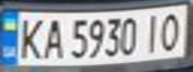0: (118, 14, 142, 56)
3: (103, 15, 124, 57)
5: (66, 16, 90, 60)
9: (84, 16, 106, 58)
A: (39, 16, 66, 61)
I: (139, 11, 163, 54)
K: (12, 15, 45, 61)
O: (157, 9, 187, 52)
